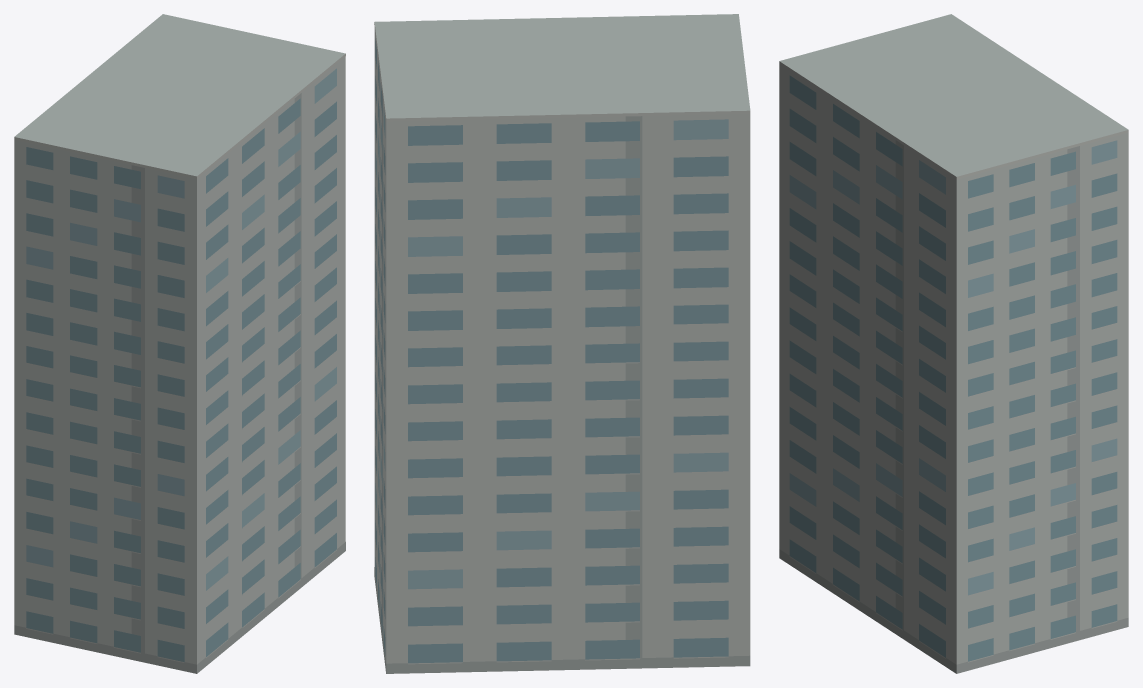
Rendered from residential-a5a8cfff-715f-4147-b2dc-40f0274c13c6.glb.
3 renders of one model, left to right at view 1: azimuth 30°, elevation 25°; view 2: azimuth 150°, elevation 25°; view 3: azimuth 270°, elevation 25°, orthographic. The views are drawn at different scales.
Visible parts, largest first — view 1: residential-a5a8cfff-715f-4147-b2dc-40f0274c13c6.tmp; view 2: residential-a5a8cfff-715f-4147-b2dc-40f0274c13c6.tmp; view 3: residential-a5a8cfff-715f-4147-b2dc-40f0274c13c6.tmp.
Part boxes in pixels (left/top/right/bottom): residential-a5a8cfff-715f-4147-b2dc-40f0274c13c6.tmp: left=14, top=14, right=345, bottom=673; residential-a5a8cfff-715f-4147-b2dc-40f0274c13c6.tmp: left=374, top=14, right=750, bottom=673; residential-a5a8cfff-715f-4147-b2dc-40f0274c13c6.tmp: left=779, top=14, right=1128, bottom=673.
Bounding box in the file's own units: 30.94 × 44 × 28.05.
